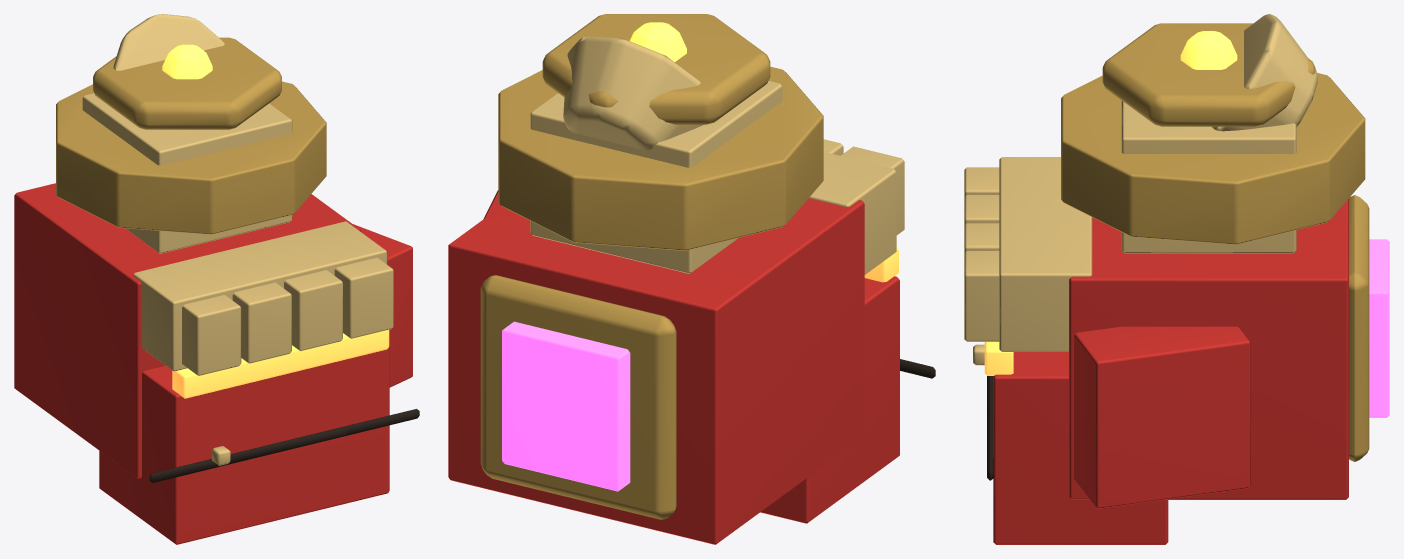
File: boldheart_arm_meteor.glb
3 views of the same model, side by side, from view 1: azimuth 30°, elevation 25°; view 2: azimuth 150°, elevation 25°; view 3: azimuth 270°, elevation 25° (orthographic). The views are drawn at different scales.
Visible parts, largest first — view 1: boldheart_arm_meteor; view 2: boldheart_arm_meteor; view 3: boldheart_arm_meteor.
Part boxes in pixels (left/top/right/bottom): boldheart_arm_meteor: left=14, top=14, right=419, bottom=544; boldheart_arm_meteor: left=448, top=14, right=935, bottom=544; boldheart_arm_meteor: left=964, top=14, right=1389, bottom=544.
Bounding box in the file's own units: 0.6936 × 0.88 × 0.73.
1 material, 1 textured.
